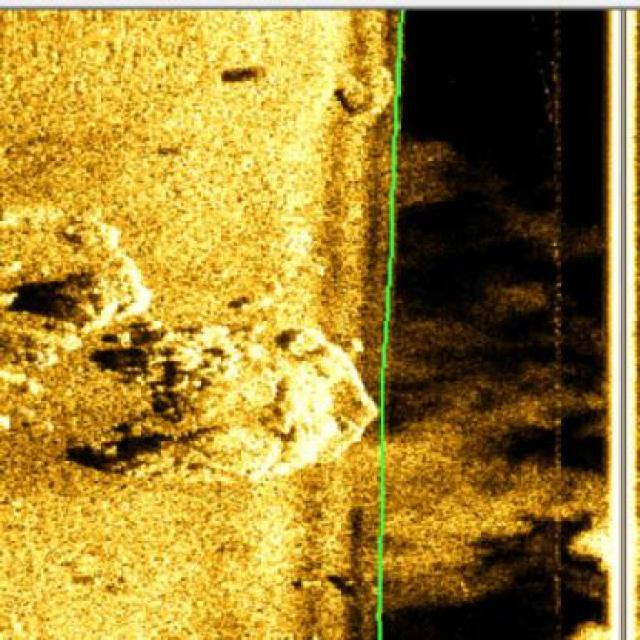bedrock group: (0, 201, 386, 477)
